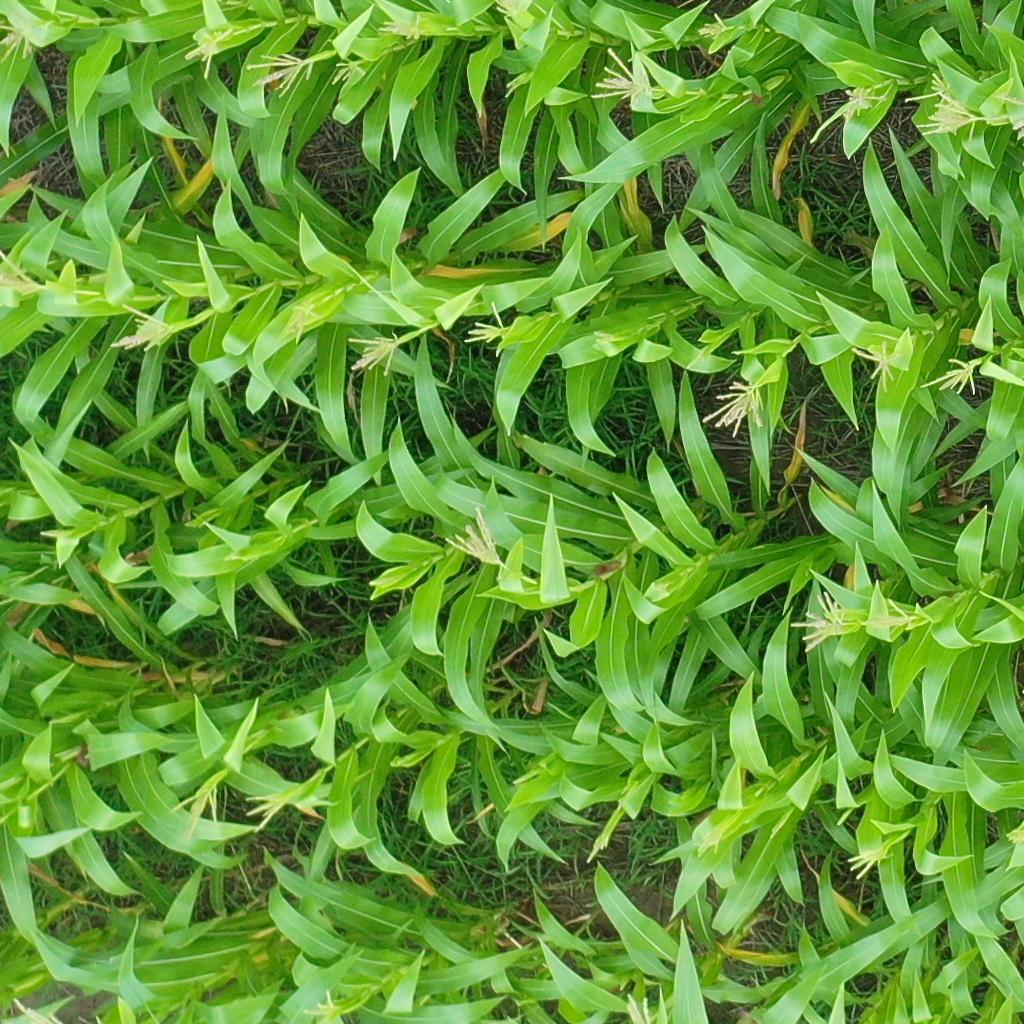Tassel: (807, 79, 888, 145), (700, 374, 768, 443), (589, 41, 656, 108), (246, 41, 316, 104), (442, 504, 507, 568), (786, 586, 852, 643), (106, 301, 175, 355), (849, 335, 904, 394), (343, 325, 405, 375), (914, 353, 980, 397), (915, 98, 980, 140), (184, 24, 230, 81), (860, 592, 916, 638), (1, 248, 45, 304), (975, 90, 1024, 140), (237, 788, 290, 833), (1, 18, 47, 69), (460, 300, 506, 348), (277, 297, 320, 346), (168, 788, 221, 825), (326, 49, 371, 89), (901, 71, 956, 102), (300, 988, 347, 1024), (374, 8, 422, 43), (841, 847, 886, 878), (621, 991, 656, 1024), (697, 11, 731, 41), (586, 832, 612, 865)
